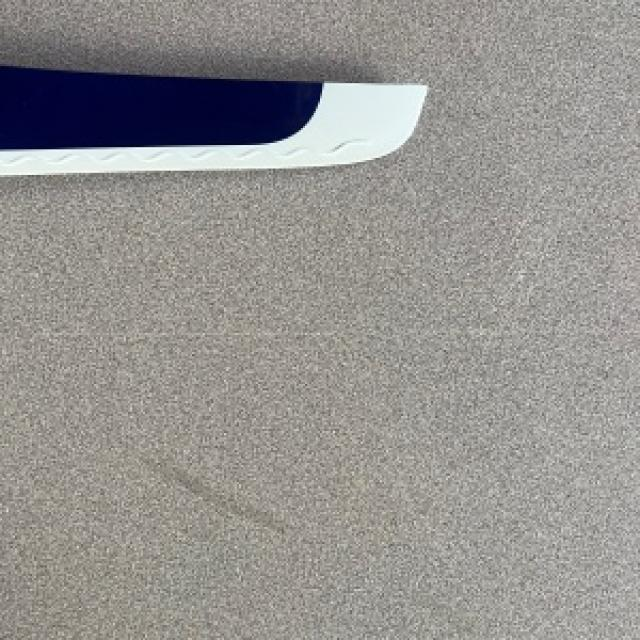healthy: (0, 64, 422, 173)
